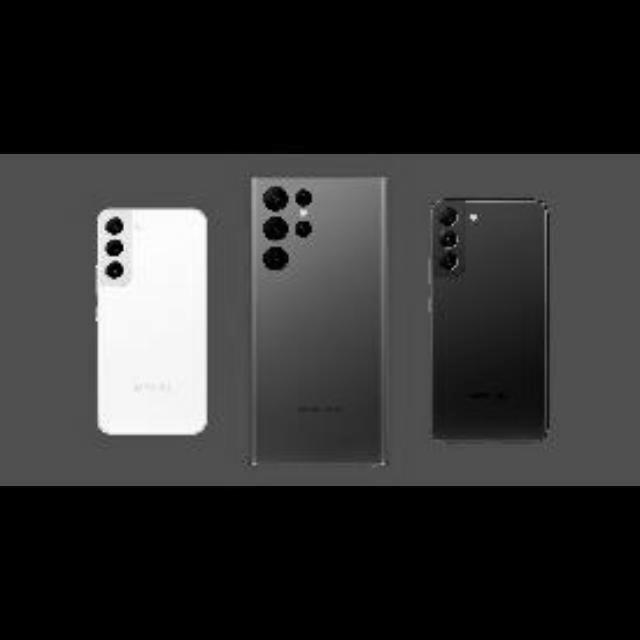fake: (246, 167, 396, 476), (431, 190, 553, 436), (98, 200, 210, 440)
